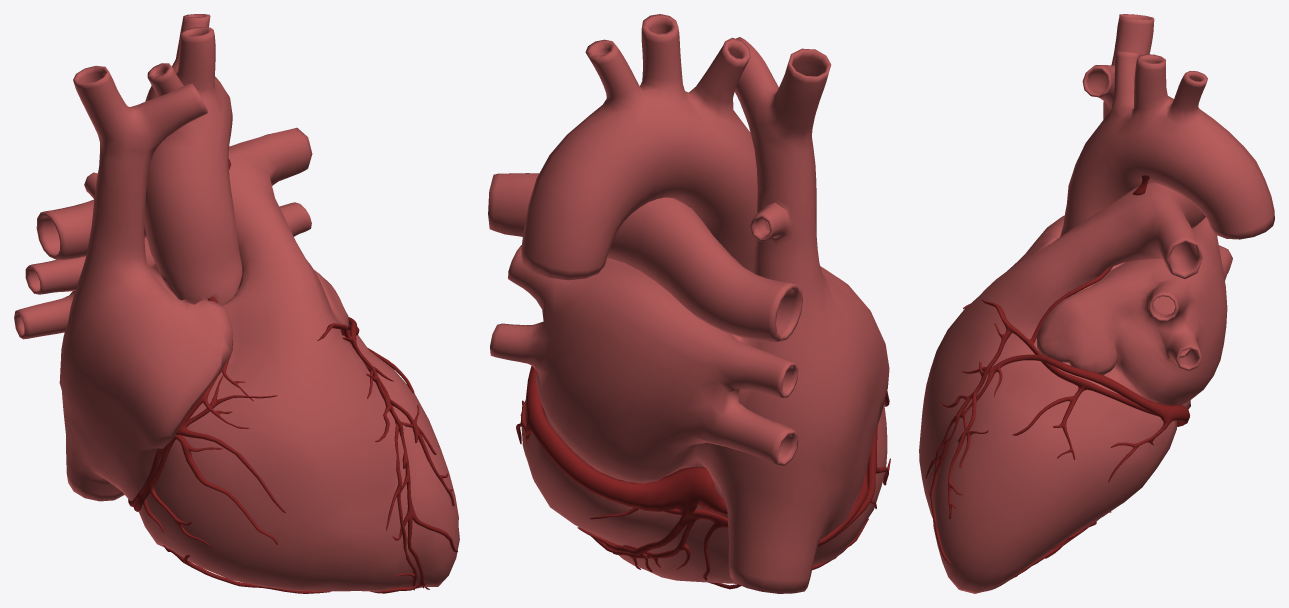
File: heart.glb
3 views of the same model, side by side, from view 1: azimuth 30°, elevation 25°; view 2: azimuth 150°, elevation 25°; view 3: azimuth 270°, elevation 25° (orthographic). The views are drawn at different scales.
Parts seen in each view (by area): view 1: Heart, Vessels_red, Vessels_blue; view 2: Heart, Vessels_blue, Vessels_red; view 3: Heart, Vessels_red, Vessels_blue.
Boxes of the visible parts, bbox=[...] form: Heart: bbox=[14, 14, 459, 591]; Vessels_red: bbox=[134, 296, 457, 593]; Vessels_blue: bbox=[128, 317, 436, 590]; Heart: bbox=[488, 14, 889, 593]; Vessels_blue: bbox=[516, 366, 876, 571]; Vessels_red: bbox=[590, 391, 890, 589]; Heart: bbox=[919, 14, 1274, 593]; Vessels_red: bbox=[929, 266, 1176, 564]; Vessels_blue: bbox=[925, 303, 1189, 590].
Bounding box in the file's own units: 0.1113 × 0.1777 × 0.1205.
